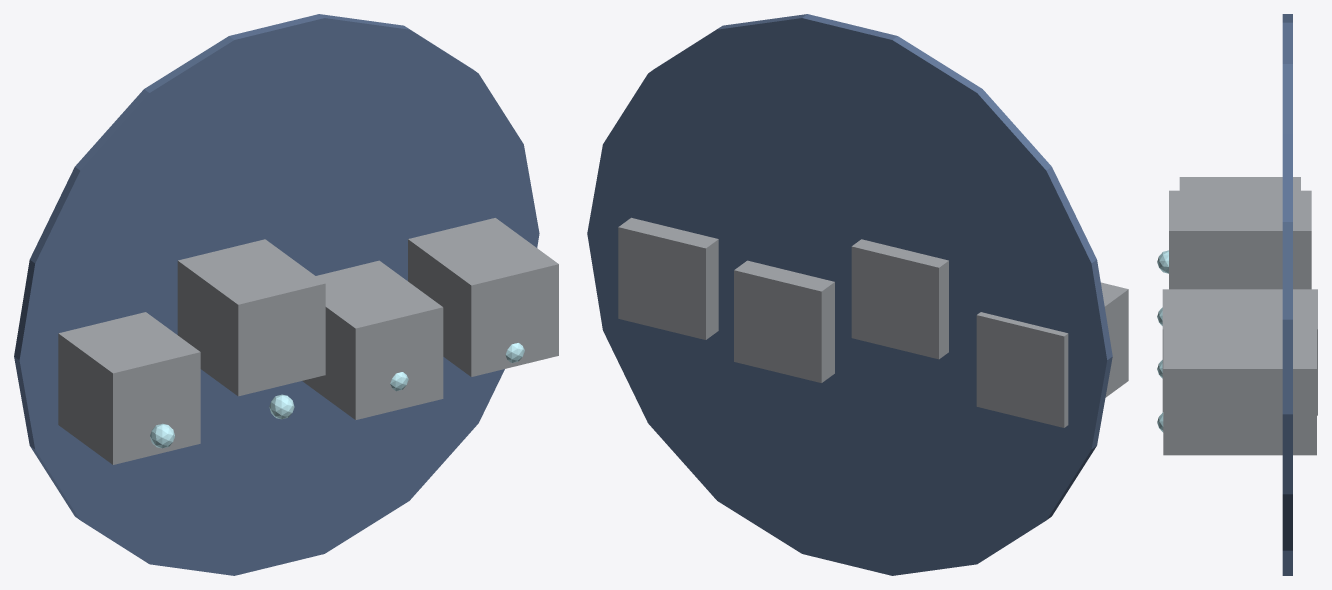
The model's file is 02_display_prop_cluster.glb.
The picture shows the model from 3 angles, left to right: view 1: azimuth 30°, elevation 25°; view 2: azimuth 150°, elevation 25°; view 3: azimuth 270°, elevation 25°; orthographic projection. The views are drawn at different scales.
Parts seen in each view (by area): view 1: scatter_base, tech_crate_1, tech_crate_0, tech_crate_3, tech_crate_2; view 2: scatter_base, tech_crate_0, tech_crate_2, tech_crate_3, tech_crate_1; view 3: tech_crate_3, tech_crate_1, scatter_base, tech_crate_2, tech_crate_0.
Boxes of the visible parts, x1,y1,x2,y2 form: scatter_base: (14, 14, 539, 575); tech_crate_1: (177, 239, 325, 396); tech_crate_0: (58, 312, 200, 464); tech_crate_3: (408, 218, 558, 376); tech_crate_2: (302, 260, 443, 419); scatter_base: (587, 14, 1112, 575); tech_crate_0: (976, 282, 1128, 427); tech_crate_2: (734, 260, 834, 382); tech_crate_3: (618, 217, 718, 339); tech_crate_1: (851, 239, 948, 359); tech_crate_3: (1163, 329, 1316, 455); tech_crate_1: (1169, 190, 1311, 289); scatter_base: (1282, 14, 1292, 575); tech_crate_2: (1162, 289, 1317, 415); tech_crate_0: (1179, 177, 1300, 190).
Bounding box in the file's own units: 1.9 × 1.87 × 0.5413.
